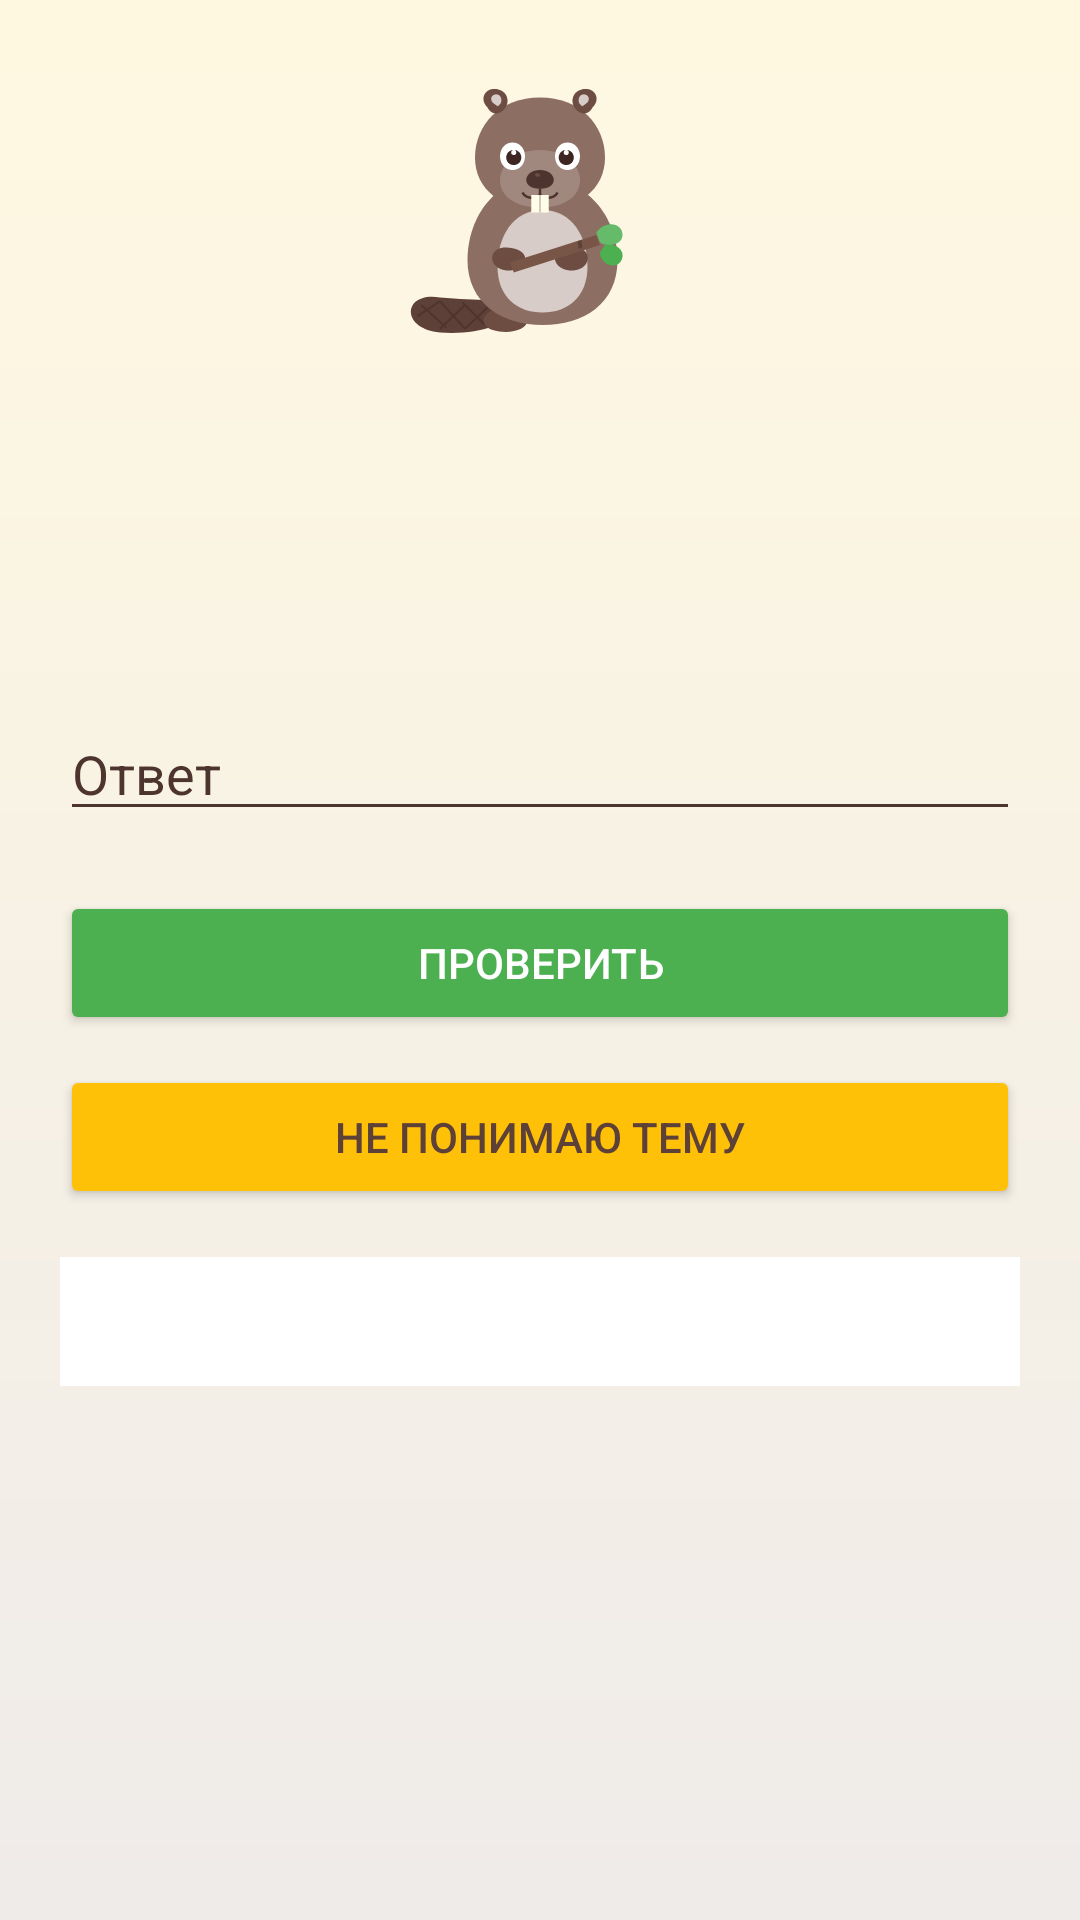

Where to tap for icons on this 1080 × 1920 app screen, as (x=x, y=y):
beaver: (x=516, y=211)
